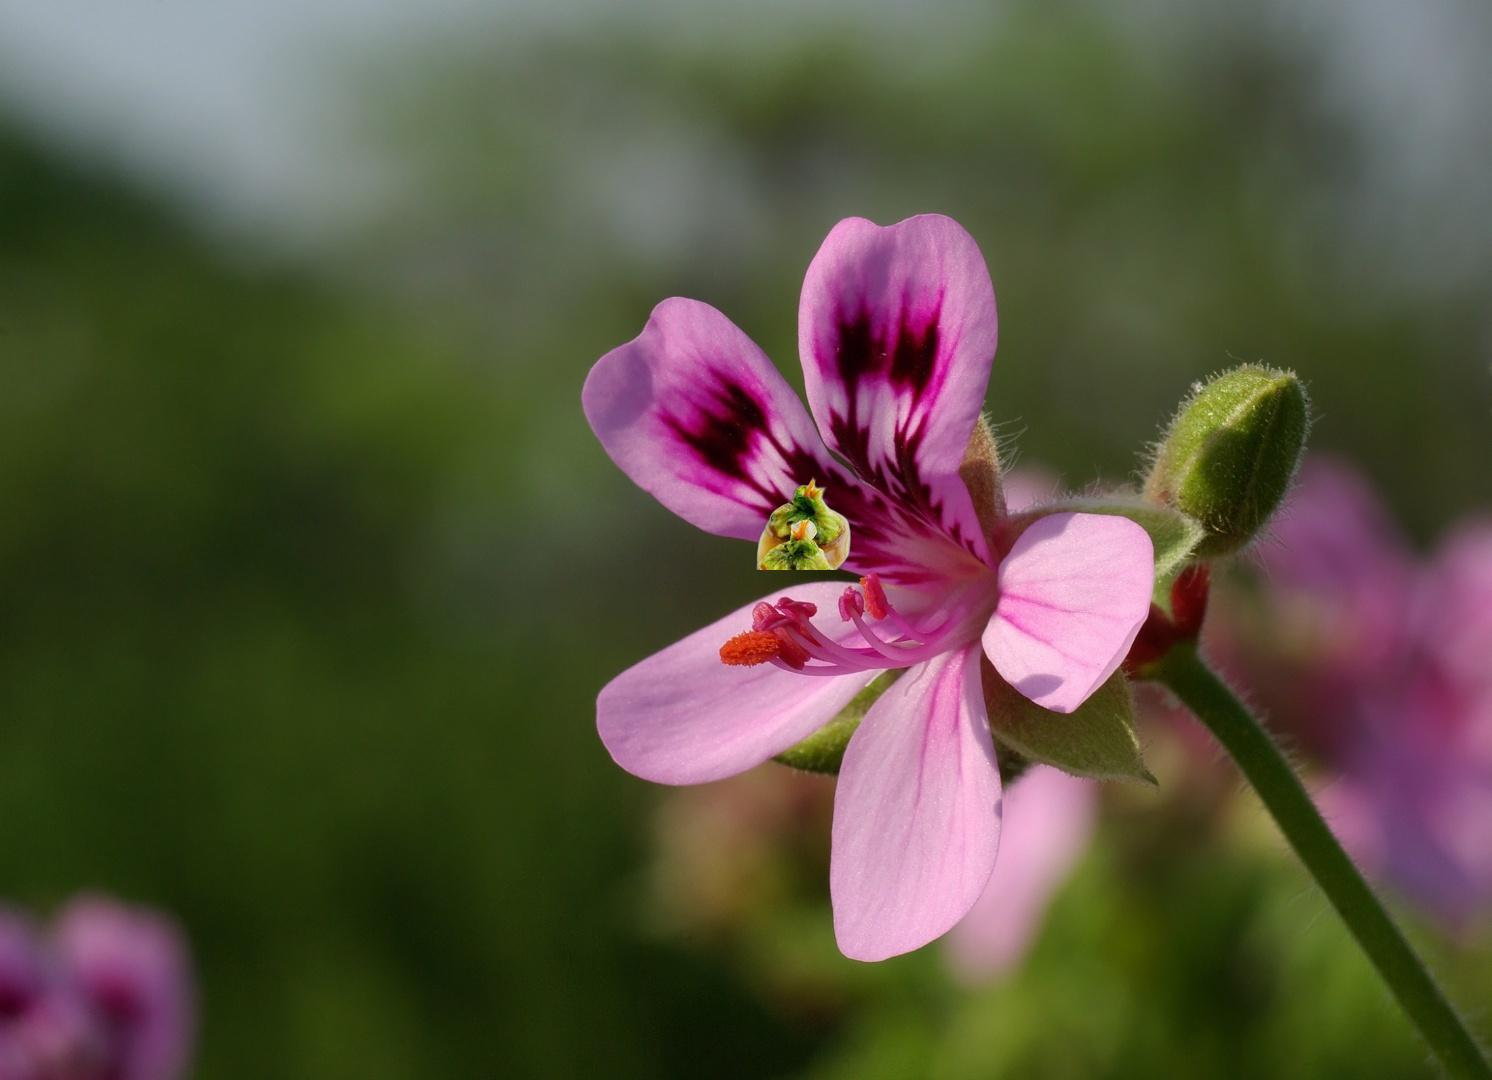biological: (734, 450, 854, 570)
